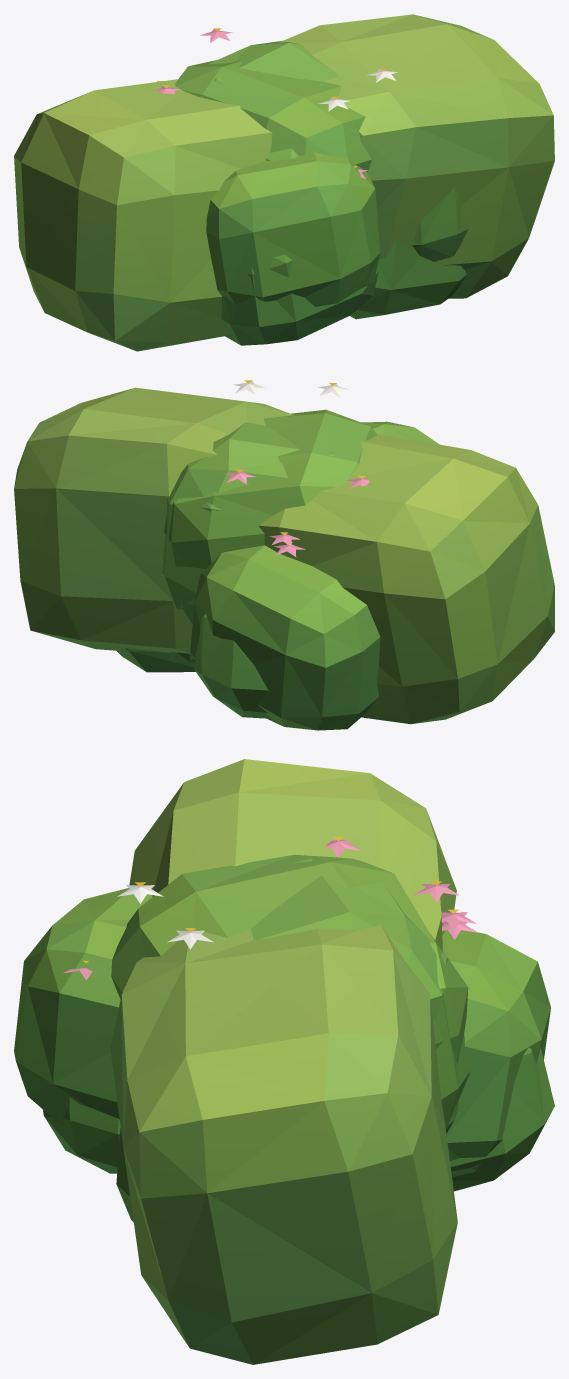
File: plants.glb
3 renders of one model, top to bottom at view 1: azimuth 30°, elevation 25°; view 2: azimuth 150°, elevation 25°; view 3: azimuth 270°, elevation 25°, orthographic. The views are drawn at different scales.
Visible parts, largest first — view 1: hedge_lod0, bush_flowering, bush_lod0; view 2: hedge_lod0, bush_flowering, bush_lod0; view 3: hedge_lod0, bush_flowering, bush_lod0.
Boxes of the visible parts, bbox=[...] form: hedge_lod0: bbox=[14, 14, 554, 351]; bush_flowering: bbox=[156, 28, 468, 306]; bush_lod0: bbox=[175, 60, 466, 345]; hedge_lod0: bbox=[14, 387, 554, 724]; bush_flowering: bbox=[162, 380, 439, 730]; bush_lod0: bbox=[117, 409, 377, 718]; hedge_lod0: bbox=[110, 759, 457, 1364]; bush_flowering: bbox=[14, 836, 550, 1221]; bush_lod0: bbox=[42, 854, 554, 1191].
Size of what is drawn, in the model's own units: 2.15 by 1.11 by 1.51.
Materials: 1 (1 with a texture image).
